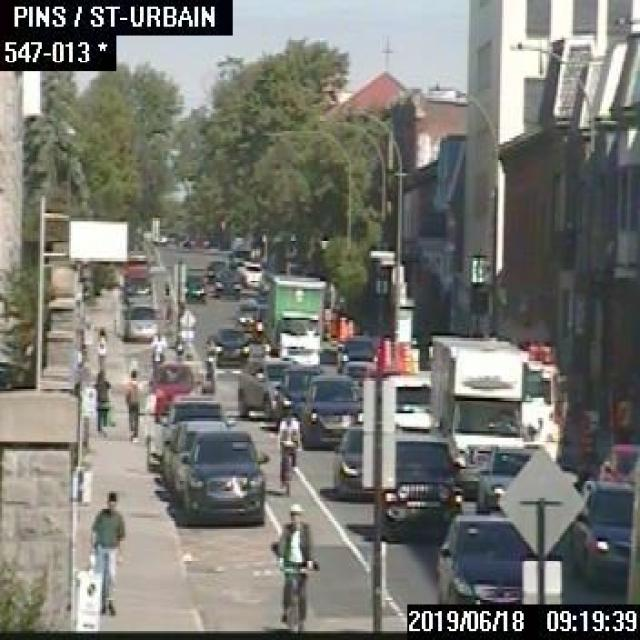construction: (578, 409, 596, 459), (380, 334, 391, 370), (397, 340, 408, 372), (337, 313, 346, 342)
cyclist: (269, 500, 318, 631), (274, 405, 302, 495), (149, 328, 166, 371)
pedestrian: (89, 489, 124, 618), (124, 364, 142, 442), (92, 368, 110, 429), (201, 349, 214, 395), (95, 324, 107, 369)
vehicle: (430, 333, 527, 492), (380, 431, 464, 538), (435, 512, 530, 602), (566, 477, 638, 588), (173, 445, 268, 524), (475, 446, 578, 512), (169, 430, 267, 497), (263, 270, 326, 363), (333, 425, 403, 498), (527, 342, 567, 465), (159, 417, 228, 485), (298, 371, 362, 443), (236, 355, 298, 418), (162, 394, 234, 444), (274, 363, 324, 422), (387, 368, 431, 432), (147, 362, 200, 412), (336, 333, 377, 376), (208, 326, 248, 366), (121, 302, 160, 339), (598, 441, 638, 477), (145, 412, 166, 468), (231, 297, 261, 328), (122, 273, 152, 302), (214, 268, 241, 298), (235, 258, 262, 284), (183, 272, 205, 303), (250, 301, 266, 338), (125, 252, 149, 273), (205, 258, 228, 278)
